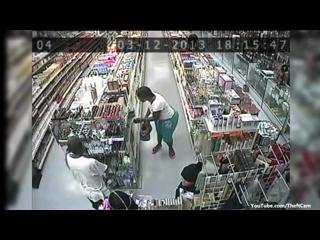Normal: (64, 135, 112, 210)
shoplifting: (134, 85, 179, 160)
